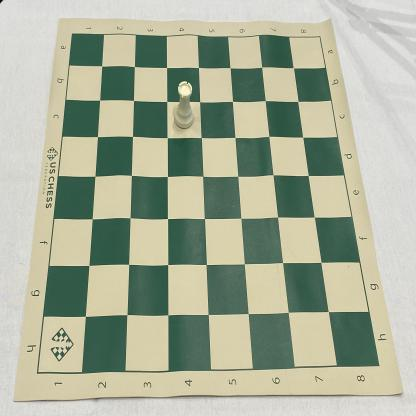white-rook: (173, 81, 195, 130)
